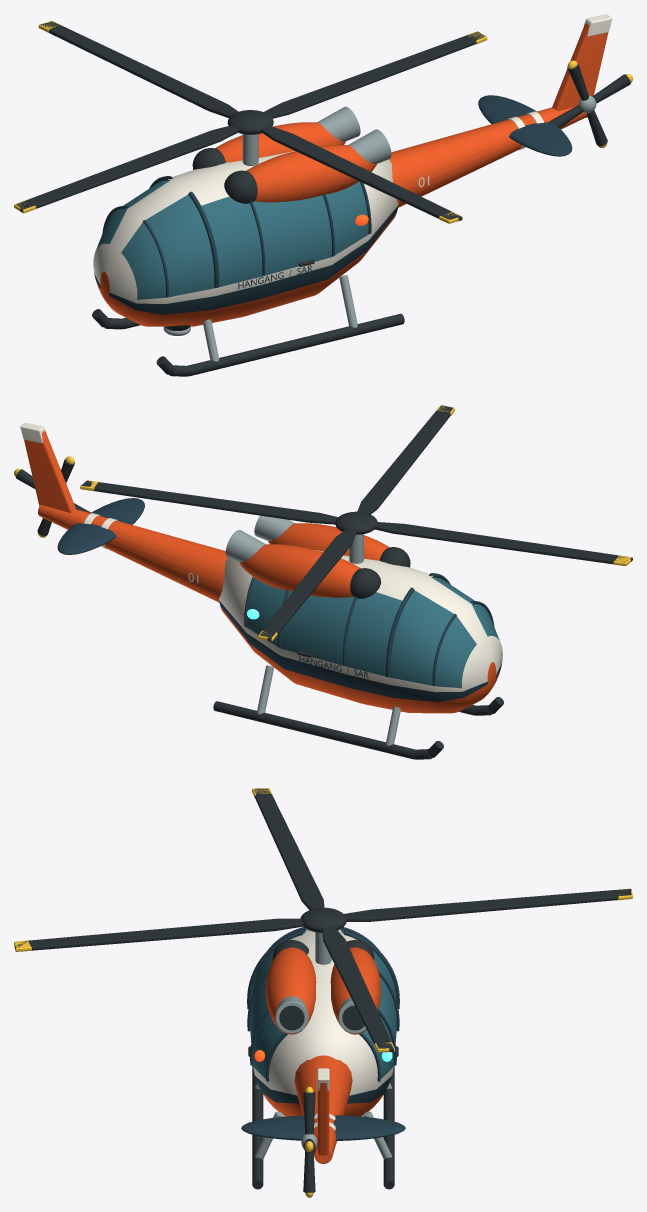
Rendered from helicopter.glb.
3 views of the same model, one above another, from view 1: azimuth 30°, elevation 25°; view 2: azimuth 150°, elevation 25°; view 3: azimuth 270°, elevation 25° (orthographic). The views are drawn at different scales.
Visible parts, largest first — view 1: RescueHelicopter, MainRotorGeometry, TailRotorGeometry; view 2: RescueHelicopter, MainRotorGeometry, TailRotorGeometry; view 3: RescueHelicopter, MainRotorGeometry, TailRotorGeometry.
Part boxes in pixels (<box>): RescueHelicopter: <box>92,14,612,376</box>; MainRotorGeometry: <box>14,21,487,223</box>; TailRotorGeometry: <box>548,60,632,147</box>; RescueHelicopter: <box>20,422,503,759</box>; MainRotorGeometry: <box>80,405,632,641</box>; TailRotorGeometry: <box>14,456,91,537</box>; RescueHelicopter: <box>241,927,405,1189</box>; MainRotorGeometry: <box>14,788,632,1052</box>; TailRotorGeometry: <box>301,1086,317,1197</box>.
Bounding box in the file's own units: 11.19 × 3.79 × 9.24.
